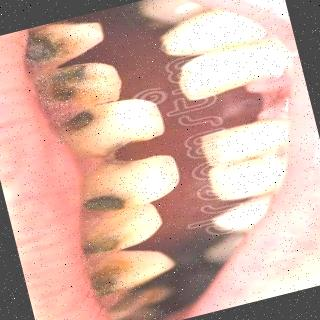cavities: (56, 106, 150, 156), (78, 170, 145, 220), (32, 65, 108, 103), (16, 29, 75, 70), (79, 264, 139, 298), (68, 230, 125, 260)
